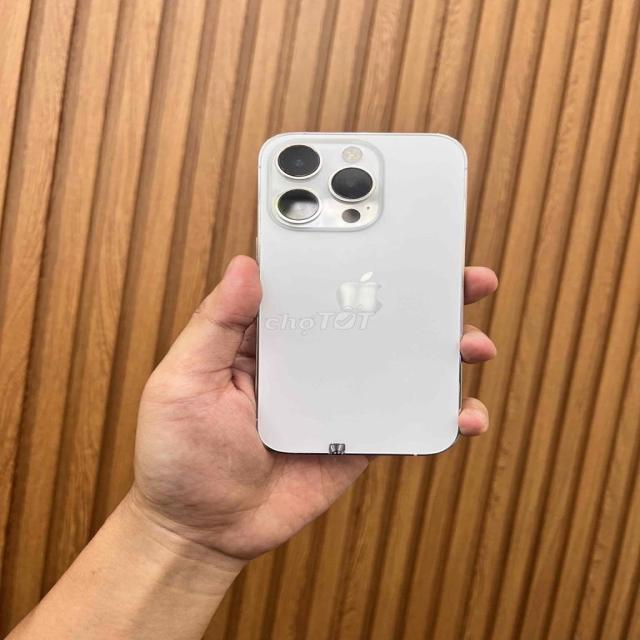gen_14: (247, 125, 472, 470)
